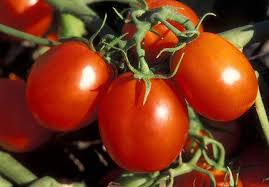tomato: (96, 60, 193, 167), (169, 39, 269, 126), (31, 31, 102, 128)
